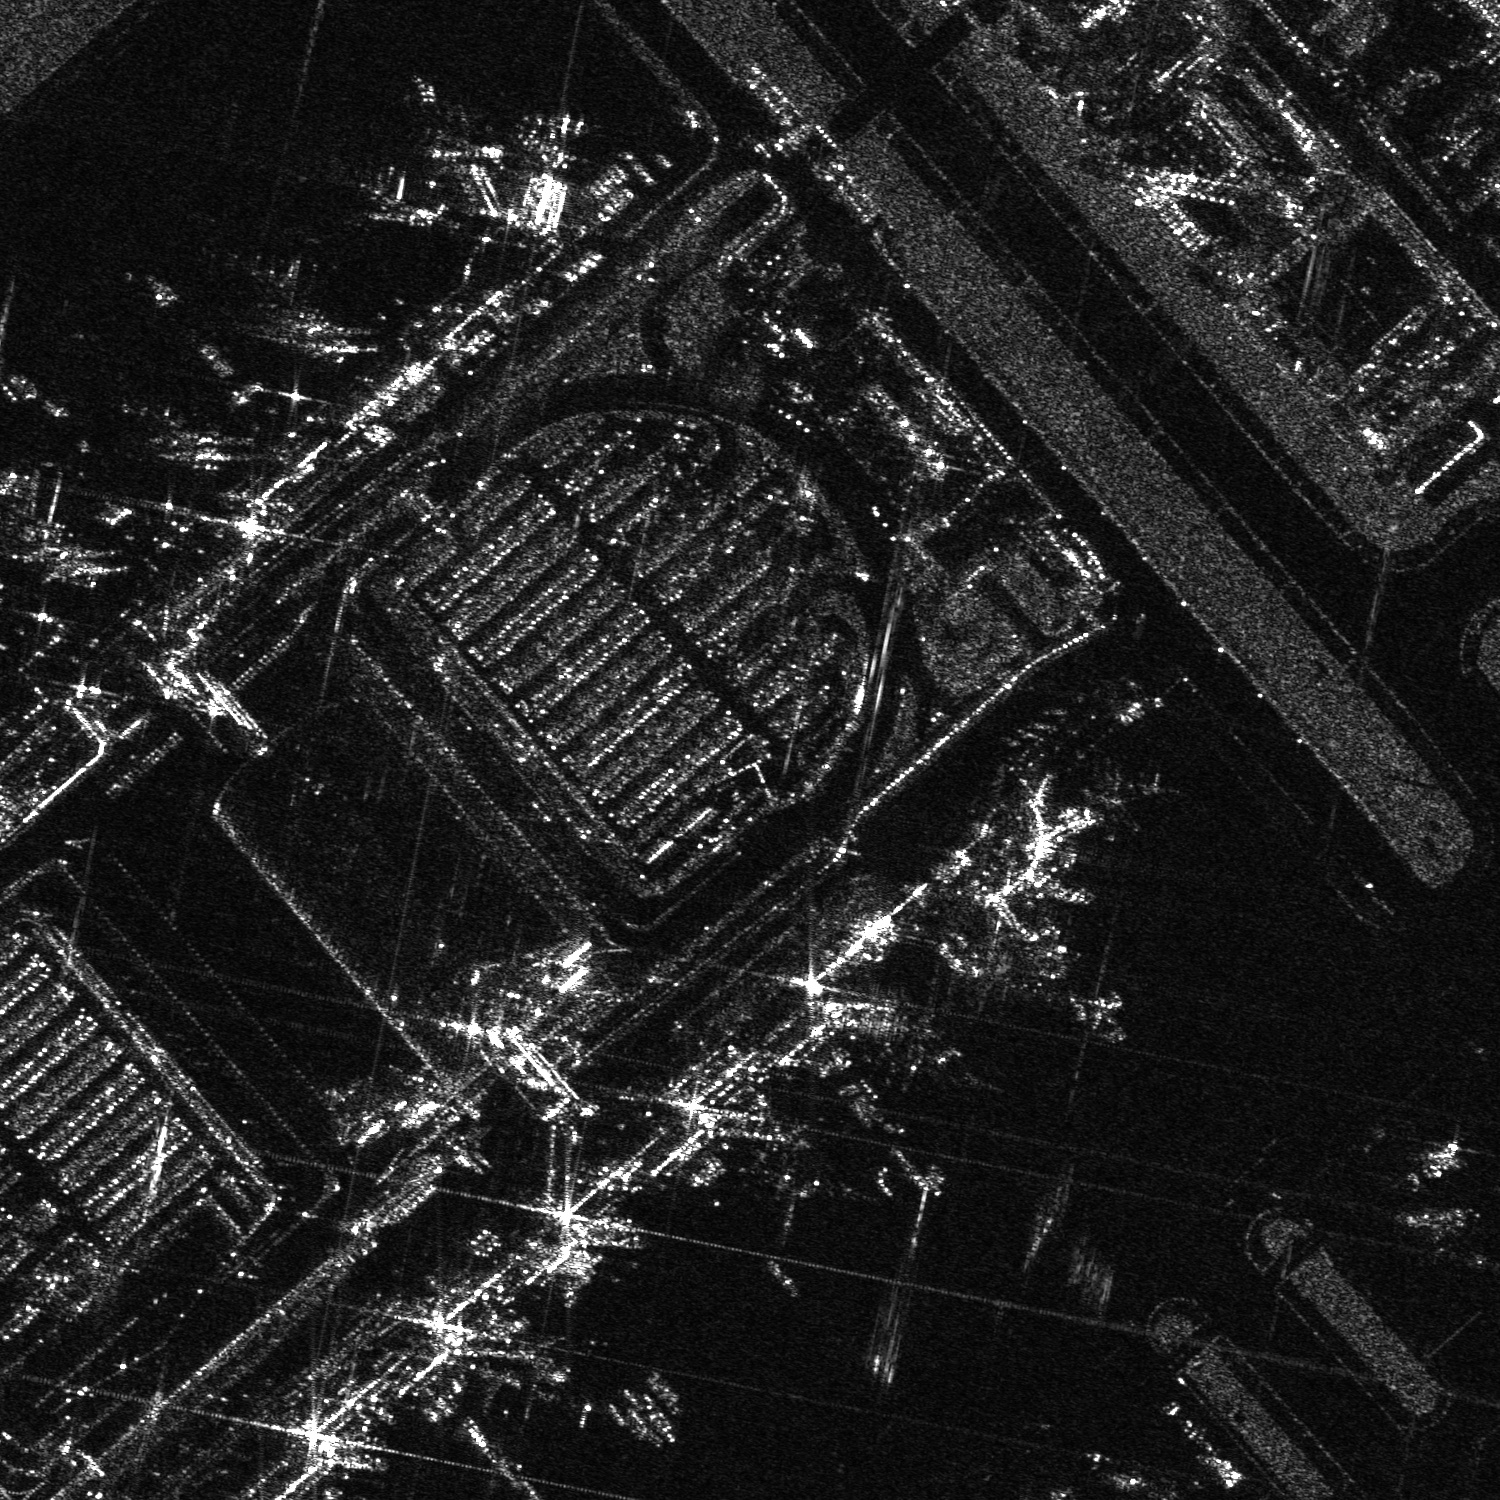A330: (481, 1326, 602, 1426)
Boeing737: (1390, 1190, 1488, 1271), (426, 102, 507, 170), (234, 255, 304, 320), (1066, 988, 1137, 1045), (359, 162, 411, 231)
Boeing787: (1, 462, 71, 545), (519, 103, 604, 172)
